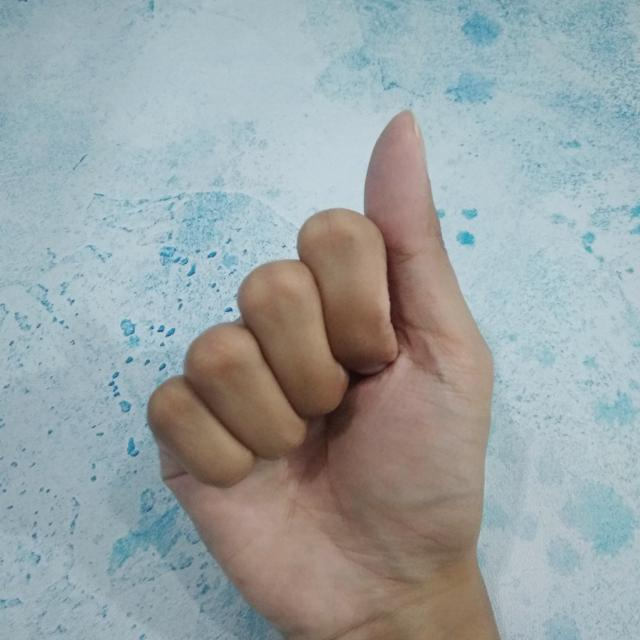A: (136, 103, 504, 640)
